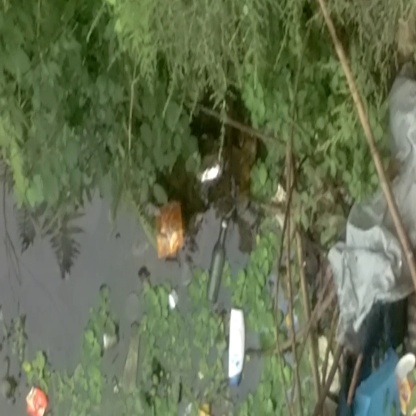bottle: (203, 217, 233, 304)
